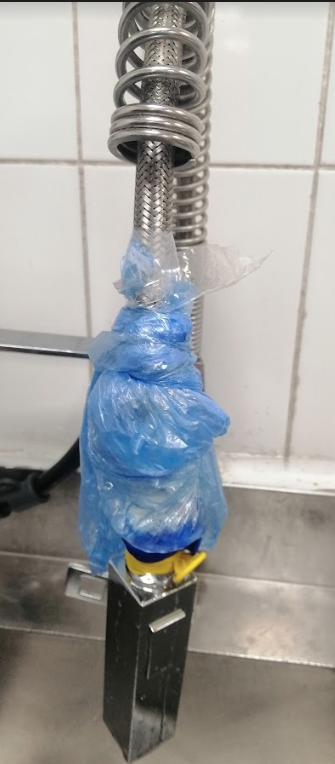Deck Faucet: (25, 2, 291, 763)
